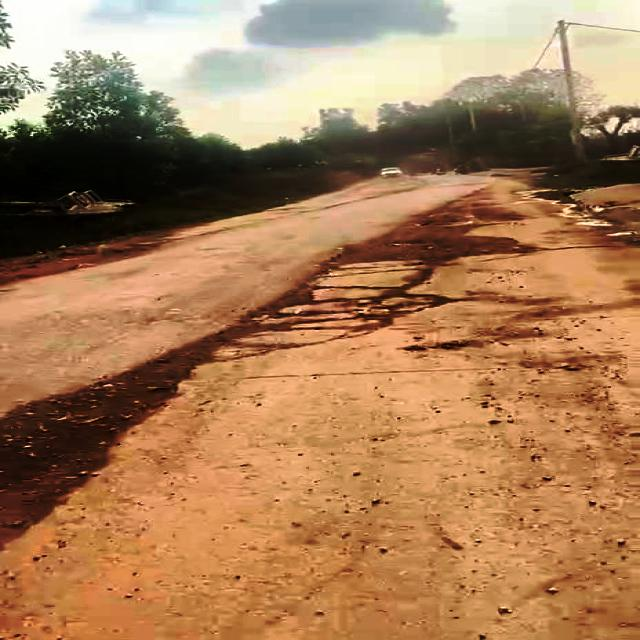pothole: (0, 392, 170, 517), (262, 288, 450, 338)
